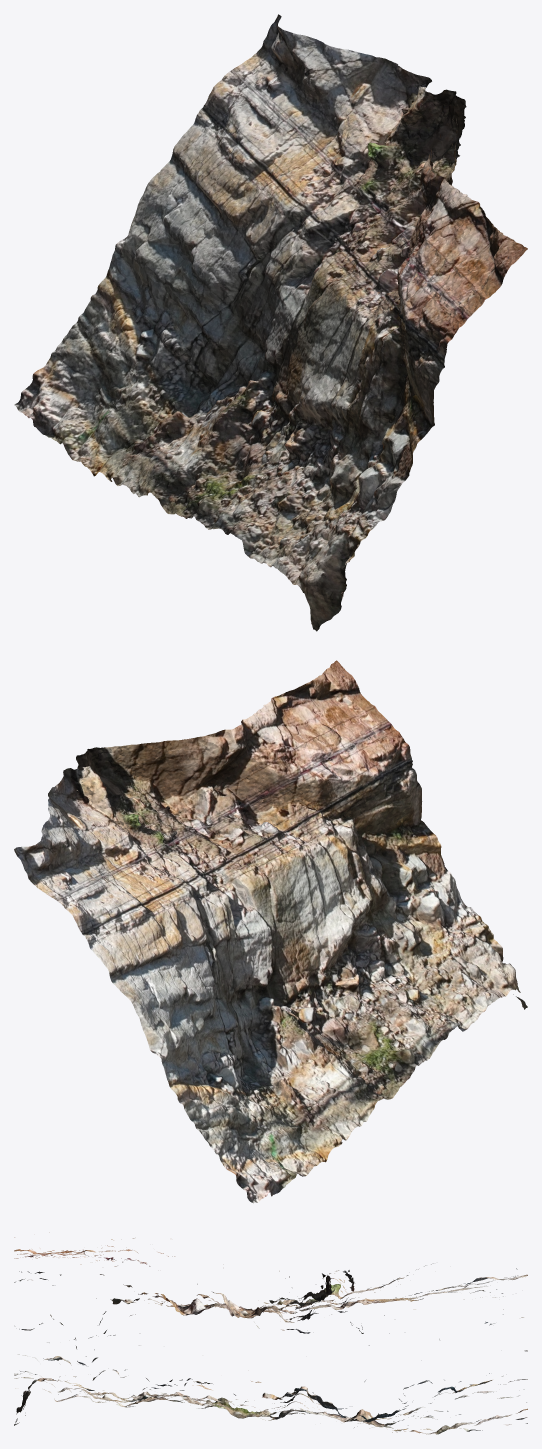
3 views of the same model, one above another, from view 1: azimuth 30°, elevation 25°; view 2: azimuth 150°, elevation 25°; view 3: azimuth 270°, elevation 25° (orthographic). The views are drawn at different scales.
Bounding box in the file's own units: 4.63 × 4.71 × 7.63.
Materials: 2 (2 with a texture image).
